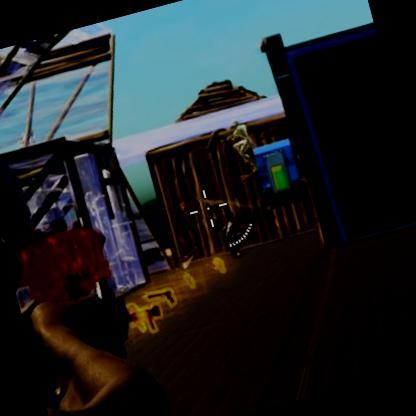person: (221, 122, 256, 174), (218, 211, 244, 261)
